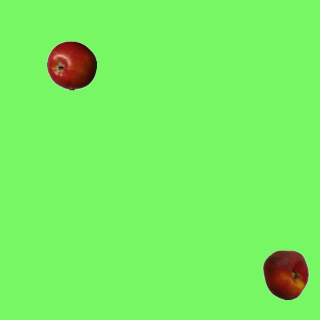Apple Braeburn: (46, 40, 96, 90)
Nectarine Flat: (260, 249, 310, 299)
